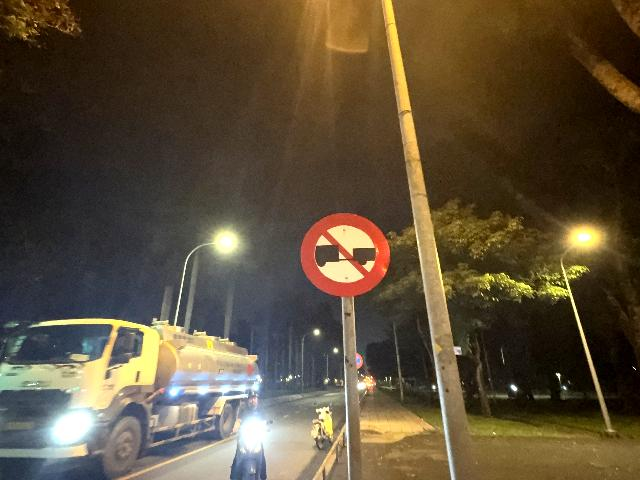cam-xe-somi-romooc: (300, 212, 390, 297)
